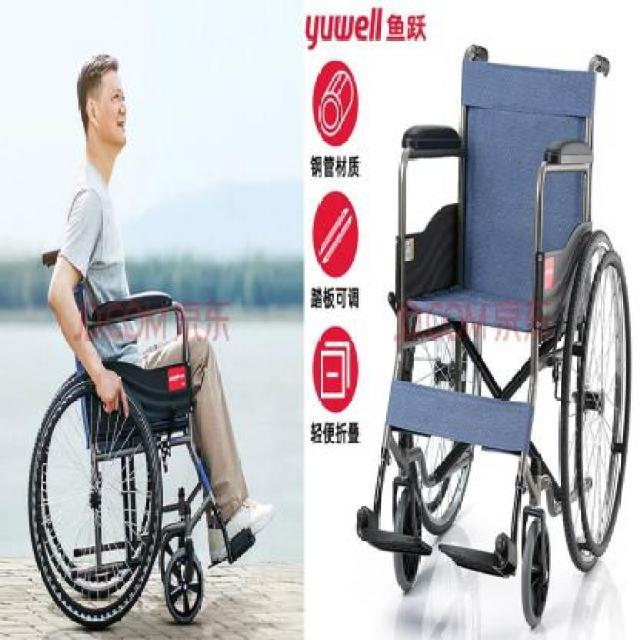wheelchairs: (360, 42, 635, 624), (33, 50, 257, 626)
